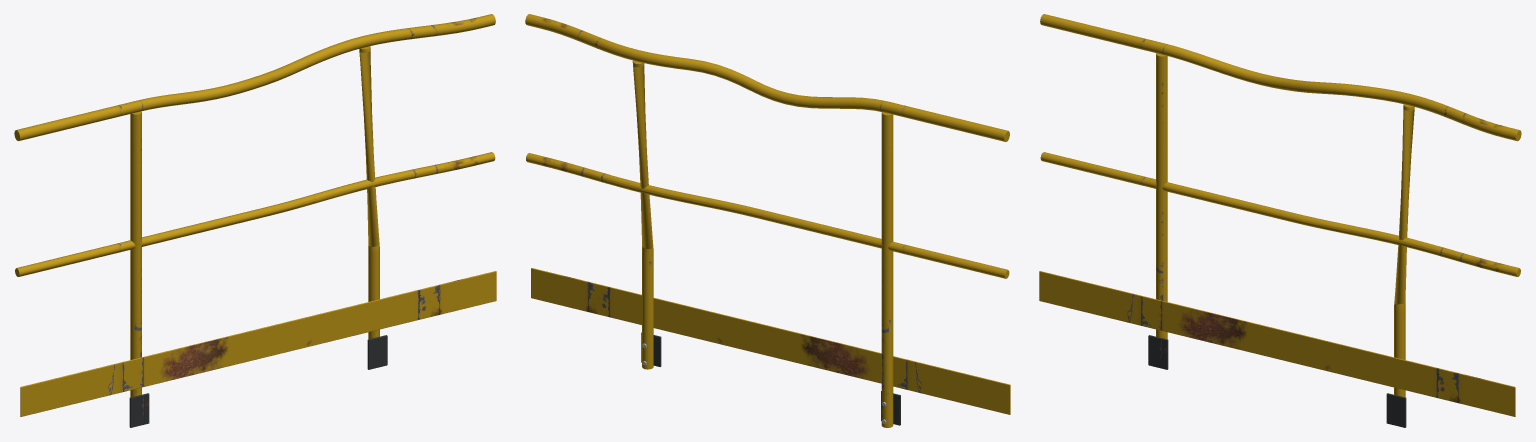
The model's file is SM_IK_Railing_200_Bent.fbx.
3 views of the same model, side by side, from view 1: azimuth 30°, elevation 25°; view 2: azimuth 150°, elevation 25°; view 3: azimuth 330°, elevation 25° (orthographic).
Parts seen in each view (by area): view 1: SM_IK_Railing_200_Bent; view 2: SM_IK_Railing_200_Bent; view 3: SM_IK_Railing_200_Bent.
Boxes of the visible parts, <box> form: SM_IK_Railing_200_Bent: <box>14,14,496,427</box>; SM_IK_Railing_200_Bent: <box>525,14,1010,427</box>; SM_IK_Railing_200_Bent: <box>1039,14,1521,427</box>.
Size of what is drawn, in the model's own units: 200 by 12 by 129.
